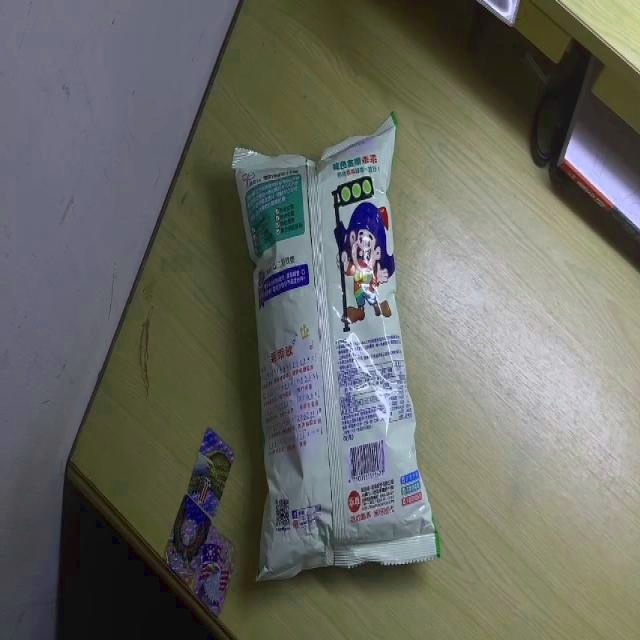Good-Luck: (236, 116, 437, 575)
